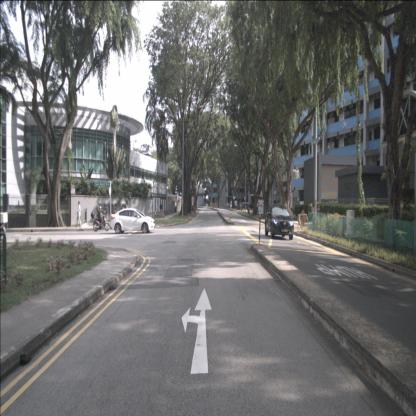human-pedestrian-adult: (75, 201, 82, 229), (317, 202, 321, 225), (311, 202, 315, 224), (159, 201, 163, 219)
vehicle-car: (108, 208, 156, 234), (264, 204, 294, 240), (230, 200, 238, 208)
vehicle-motorcycle: (90, 204, 110, 232), (0, 212, 8, 242)
